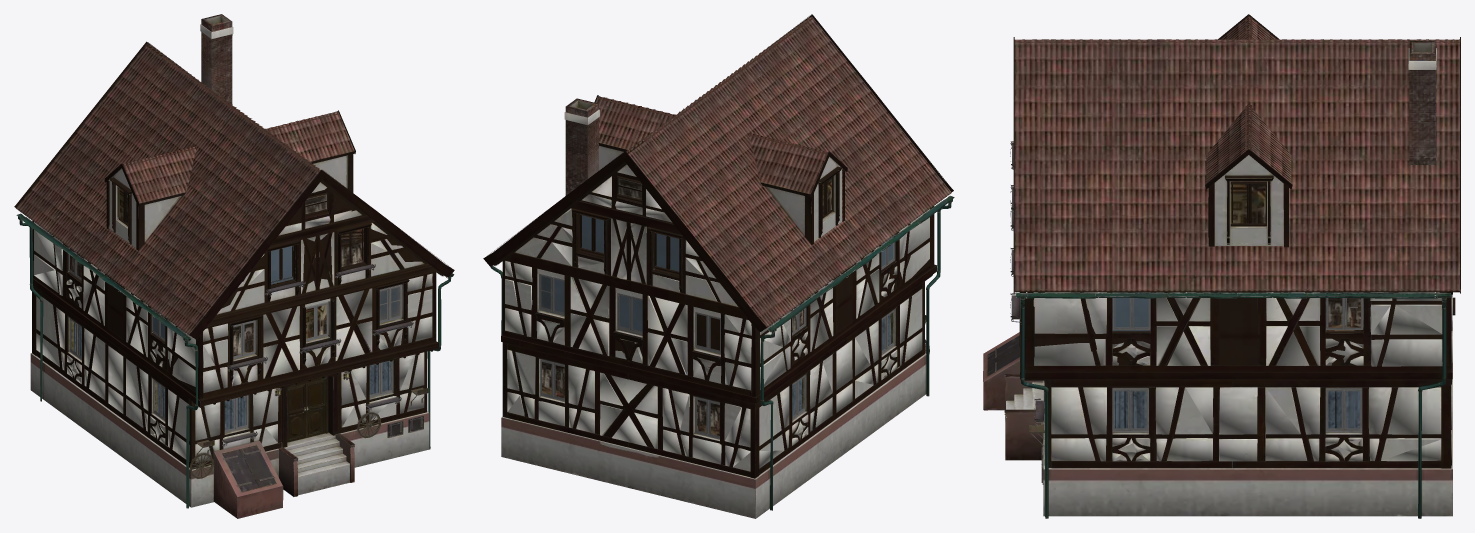
Rendered from casa_entramado_b.glb.
3 renders of one model, left to right at view 1: azimuth 30°, elevation 25°; view 2: azimuth 150°, elevation 25°; view 3: azimuth 270°, elevation 25°, orthographic. The views are drawn at different scales.
Parts seen in each view (by area): view 1: XI_GV_House_Big5.Shape_XI_GV_House_Big_Topflr_mat_0, XI_GV_House_Big5.Shape_XI_GV_House_Big_Gf_mat_0, XI_GV_House_Big5.Shape_XI_GV_House_Big_Firstflr_mat_0, XI_GV_House_Big5.Shape_XI_GV_House_Big_Glass_mat_0; view 2: XI_GV_House_Big5.Shape_XI_GV_House_Big_Topflr_mat_0, XI_GV_House_Big5.Shape_XI_GV_House_Big_Gf_mat_0, XI_GV_House_Big5.Shape_XI_GV_House_Big_Firstflr_mat_0, XI_GV_House_Big5.Shape_XI_GV_House_Big_Glass_mat_0; view 3: XI_GV_House_Big5.Shape_XI_GV_House_Big_Topflr_mat_0, XI_GV_House_Big5.Shape_XI_GV_House_Big_Gf_mat_0, XI_GV_House_Big5.Shape_XI_GV_House_Big_Firstflr_mat_0.
Boxes of the visible parts, <box> form: XI_GV_House_Big5.Shape_XI_GV_House_Big_Topflr_mat_0: <box>14,14,454,339</box>; XI_GV_House_Big5.Shape_XI_GV_House_Big_Gf_mat_0: <box>30,285,429,518</box>; XI_GV_House_Big5.Shape_XI_GV_House_Big_Firstflr_mat_0: <box>16,207,454,508</box>; XI_GV_House_Big5.Shape_XI_GV_House_Big_Glass_mat_0: <box>69,194,400,320</box>; XI_GV_House_Big5.Shape_XI_GV_House_Big_Topflr_mat_0: <box>483,14,953,332</box>; XI_GV_House_Big5.Shape_XI_GV_House_Big_Gf_mat_0: <box>501,280,929,518</box>; XI_GV_House_Big5.Shape_XI_GV_House_Big_Firstflr_mat_0: <box>490,195,954,510</box>; XI_GV_House_Big5.Shape_XI_GV_House_Big_Glass_mat_0: <box>541,178,796,332</box>; XI_GV_House_Big5.Shape_XI_GV_House_Big_Topflr_mat_0: <box>1010,14,1460,294</box>; XI_GV_House_Big5.Shape_XI_GV_House_Big_Gf_mat_0: <box>983,321,1452,516</box>; XI_GV_House_Big5.Shape_XI_GV_House_Big_Firstflr_mat_0: <box>1010,184,1455,518</box>.
Bounding box in the file's own units: 8 × 9.5 × 9.57.
Materials: 4 (4 with a texture image).
